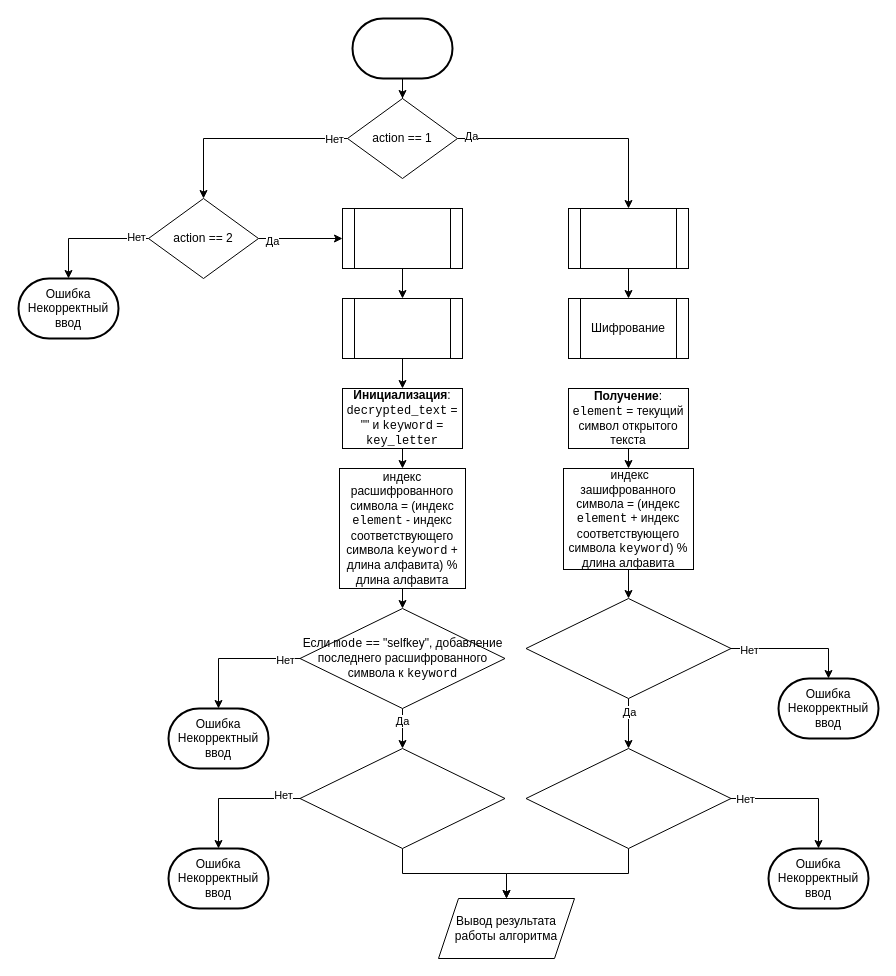
Some shapes in this 896 by 976 pixel diagram are drawn without their labels. Here are the shapes that lost their labels. From the top down, the centre of each, then its label:
point 402,48: Начало работы
point 402,238: Ввод текста
point 628,238: Ввод и обработка текста
point 402,328: Расшифрование
point 628,648: Если mode == "selfkey", добавление open_text[i] к keyword
point 402,798: Если mode == "cipherkey", добавление encrypted_text[i] к keyword
point 628,798: Если mode == "cipherkey", добавление последнего зашифрованного символа к keyword
